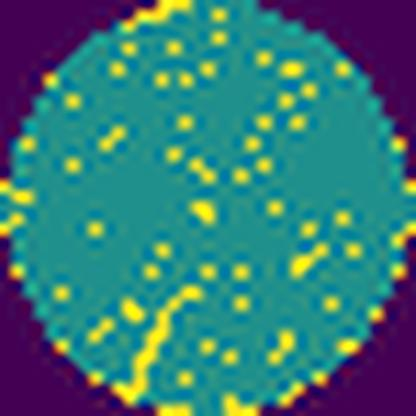Scratch: (110, 283, 207, 405)
